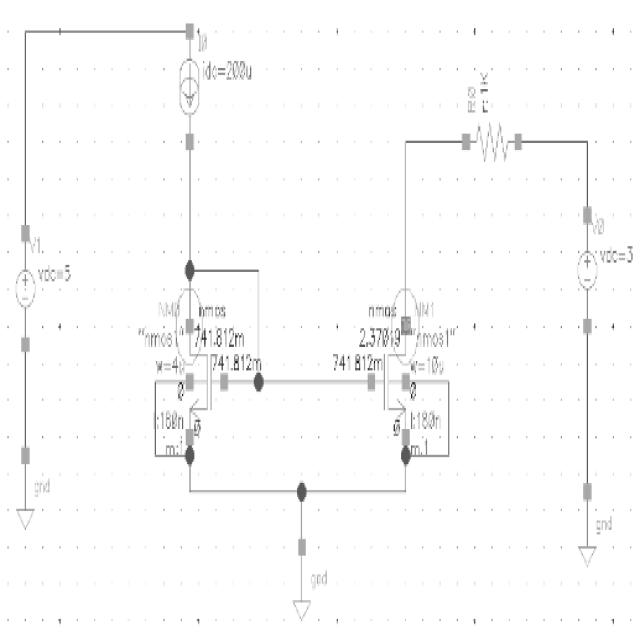idc: (172, 26, 208, 155)
nmos: (181, 298, 233, 440), (363, 301, 413, 447)
res: (459, 108, 531, 189)
vdc: (7, 225, 51, 354), (567, 210, 602, 336)
